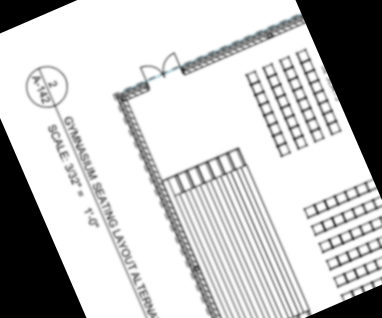door: (136, 49, 187, 91)
wall: (118, 91, 236, 318), (180, 17, 306, 80), (118, 84, 153, 105)
